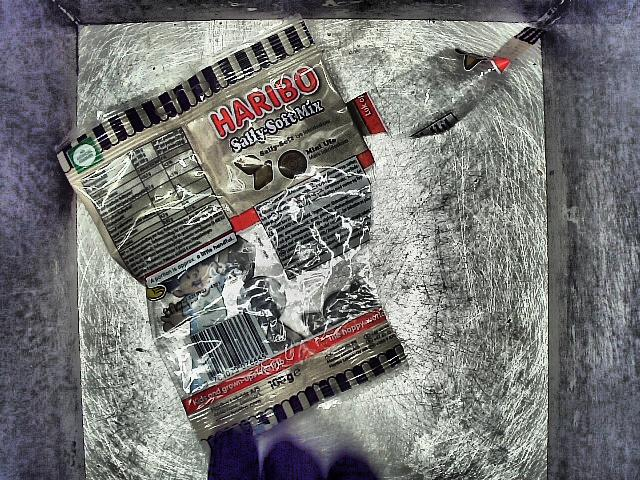Plastic: (69, 23, 419, 434), (365, 17, 543, 145)
